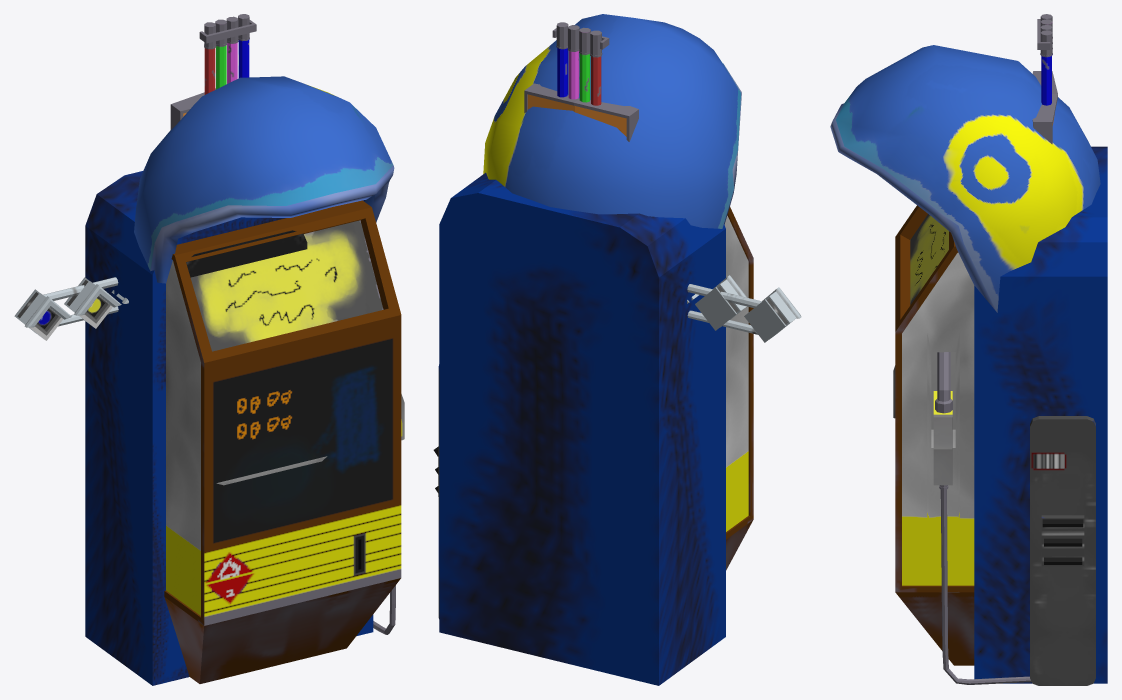
The model's file is Modelos.fbx.
3 views of the same model, side by side, from view 1: azimuth 30°, elevation 25°; view 2: azimuth 150°, elevation 25°; view 3: azimuth 270°, elevation 25° (orthographic).
Visible parts, largest first — view 1: GasStationPump, VendingMachine, Payphone, TrafficLightsCar; view 2: VendingMachine, Payphone, GasStationPump, TrafficLightsCar; view 3: VendingMachine, Payphone, GasStationPump.
Part boxes in pixels (bbox=[...]): GasStationPump: bbox=[164, 14, 404, 683]; VendingMachine: bbox=[85, 171, 373, 685]; Payphone: bbox=[134, 76, 394, 283]; TrafficLightsCar: bbox=[14, 277, 128, 340]; VendingMachine: bbox=[433, 172, 725, 685]; Payphone: bbox=[483, 14, 741, 228]; GasStationPump: bbox=[524, 22, 753, 570]; TrafficLightsCar: bbox=[687, 275, 801, 342]; VendingMachine: bbox=[893, 146, 1107, 685]; Payphone: bbox=[830, 45, 1100, 312]; GasStationPump: bbox=[895, 14, 1057, 684].
Bounding box in the file's own units: 292 × 503 × 208.
